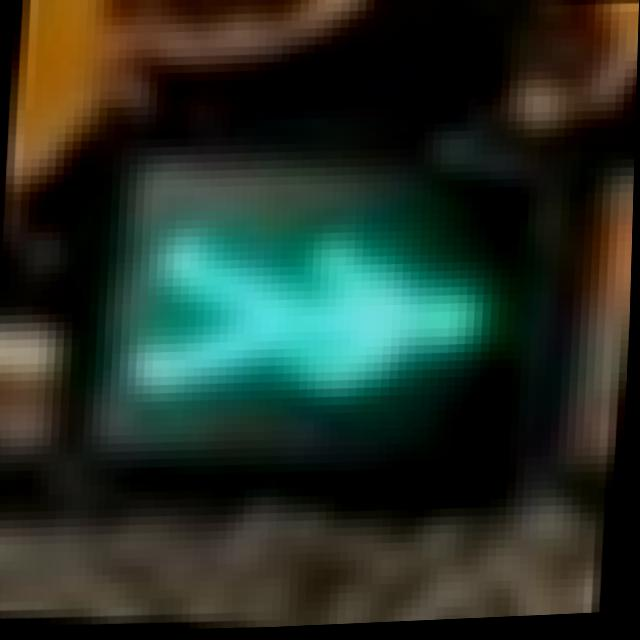green_light: (76, 150, 533, 493)
